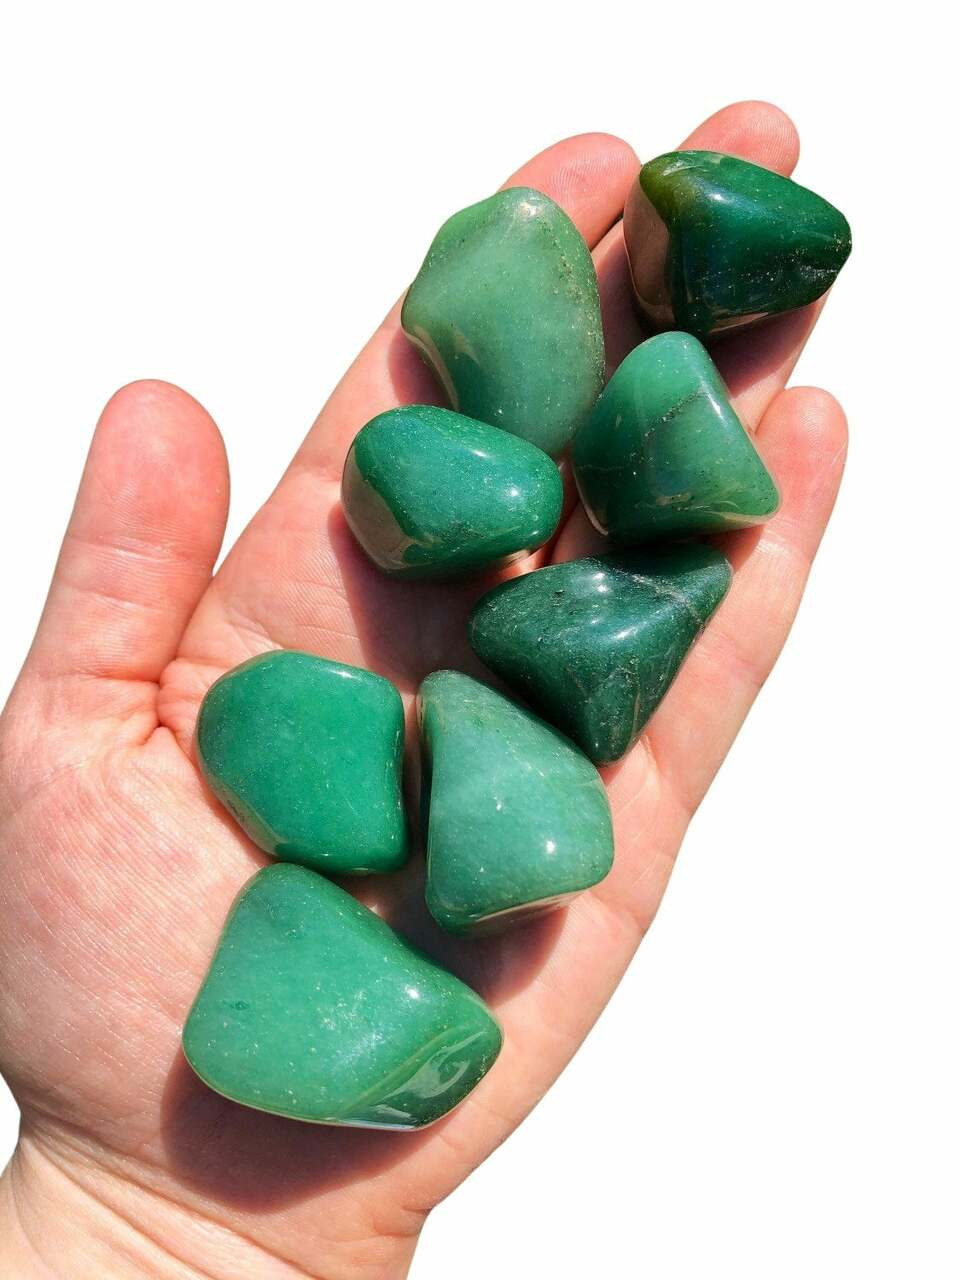Aventurine: (179, 869, 515, 1137), (172, 643, 421, 878), (402, 196, 612, 455), (411, 668, 619, 927), (620, 140, 857, 344), (574, 326, 787, 549), (341, 402, 568, 579), (395, 322, 407, 327)
